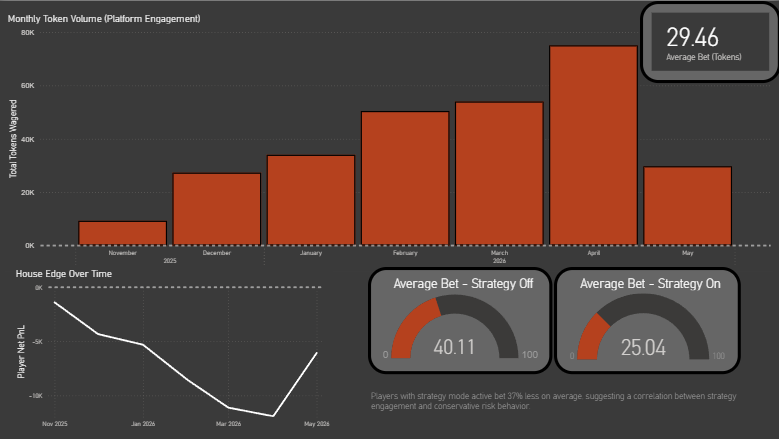

What the dashboard file says about the page in this screenshot:
{"tool":"powerbi","page":{"name":"Token Economy","canvas":[1280,720],"ordinal":1},"visuals":[{"type":"clusteredColumnChart","title":"Monthly Token Volume (Platform Engagement)","fields":{"Y":["GameSessions.Total Tokens Wagered"],"Category":["GameSessions.LoginTime.Variation.Date Hierarchy.Year","GameSessions.LoginTime.Variation.Date Hierarchy.Month"]},"box":[12.3,17.6,1254.5,424.3],"z":0},{"type":"lineChart","title":"House Edge Over Time","fields":{"Y":["GameSessions.Player Net PnL"],"Category":["GameSessions.LoginTime.Variation.Date Hierarchy.Year","GameSessions.LoginTime.Variation.Date Hierarchy.Month"]},"box":[26.4,434.9,521.8,261.8],"z":1000},{"type":"gauge","fields":{"Y":["GameSessions.Avg Bet Strategy On"]},"box":[910.1,434.9,304.8,174.8],"z":2000},{"type":"gauge","fields":{"Y":["GameSessions.Avg Bet Strategy Off"]},"box":[605.3,434.9,301.3,174.8],"z":3000},{"type":"textbox","box":[605.3,616.7,609.7,87.9],"z":4000},{"type":"cardVisual","fields":{"Data":["Avg(GameSessions.BetAmount)"]},"box":[1049.8,0,230.2,133.9],"z":7500}]}

Visuals, with their boxes in screenshot pixels (x1, y1, x2, y2), scaled from the page's 1280x720 canvas onto the 779x439 screenshot:
"Monthly Token Volume (Platform Engagement)" clusteredColumnChart: box(7, 11, 771, 269)
"House Edge Over Time" lineChart: box(16, 265, 334, 425)
gauge - GameSessions.Avg Bet Strategy On: box(554, 265, 739, 372)
gauge - GameSessions.Avg Bet Strategy Off: box(368, 265, 552, 372)
textbox: box(368, 376, 739, 430)
cardVisual - Avg(GameSessions.BetAmount): box(639, 0, 778, 82)
